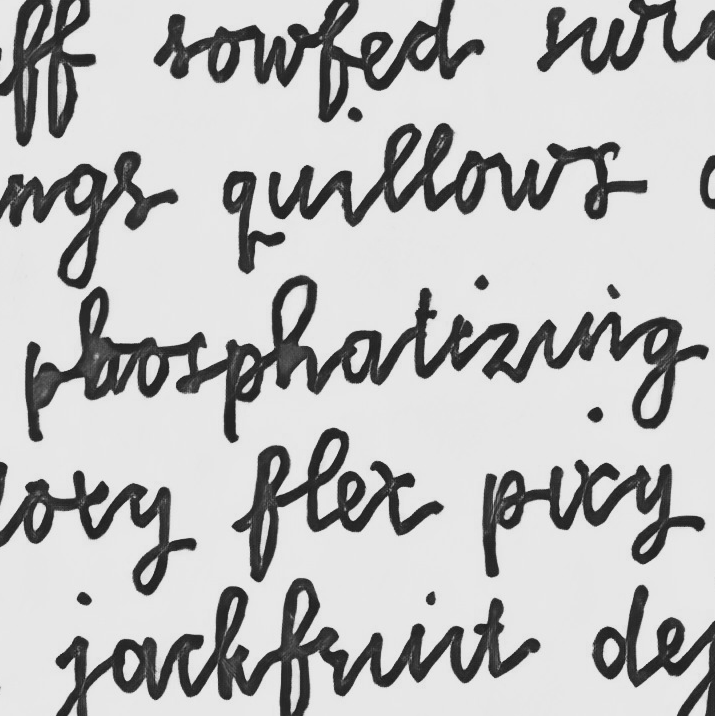a: (339, 325, 386, 388)
g: (629, 315, 684, 430)
h: (269, 272, 323, 395), (76, 285, 121, 403)
i: (446, 275, 479, 374), (530, 312, 562, 373)
n: (574, 307, 624, 364)
o: (132, 335, 172, 400)
p: (220, 337, 266, 446), (20, 339, 65, 444)
s: (174, 330, 208, 396)
t: (408, 285, 442, 380)
z: (480, 321, 525, 382)
